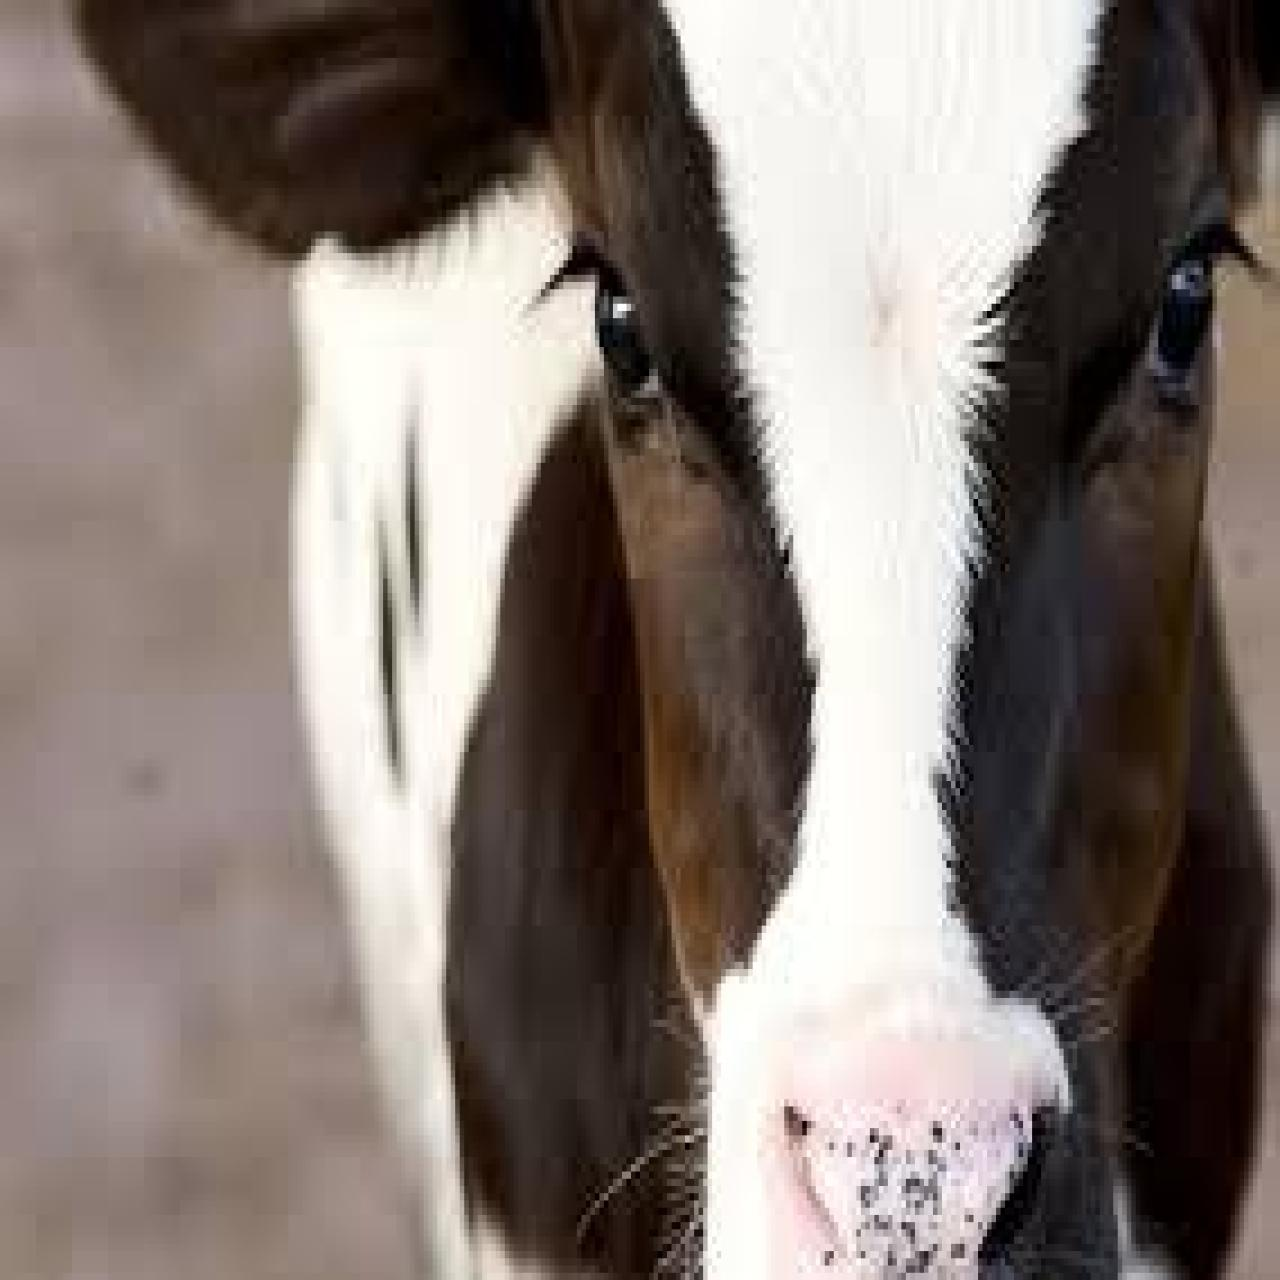cow: (76, 14, 1280, 1279)
